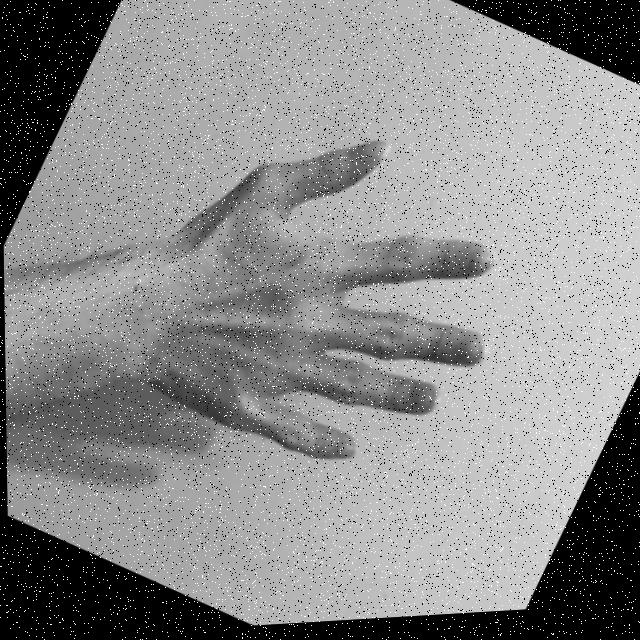hand: (111, 71, 558, 532)
